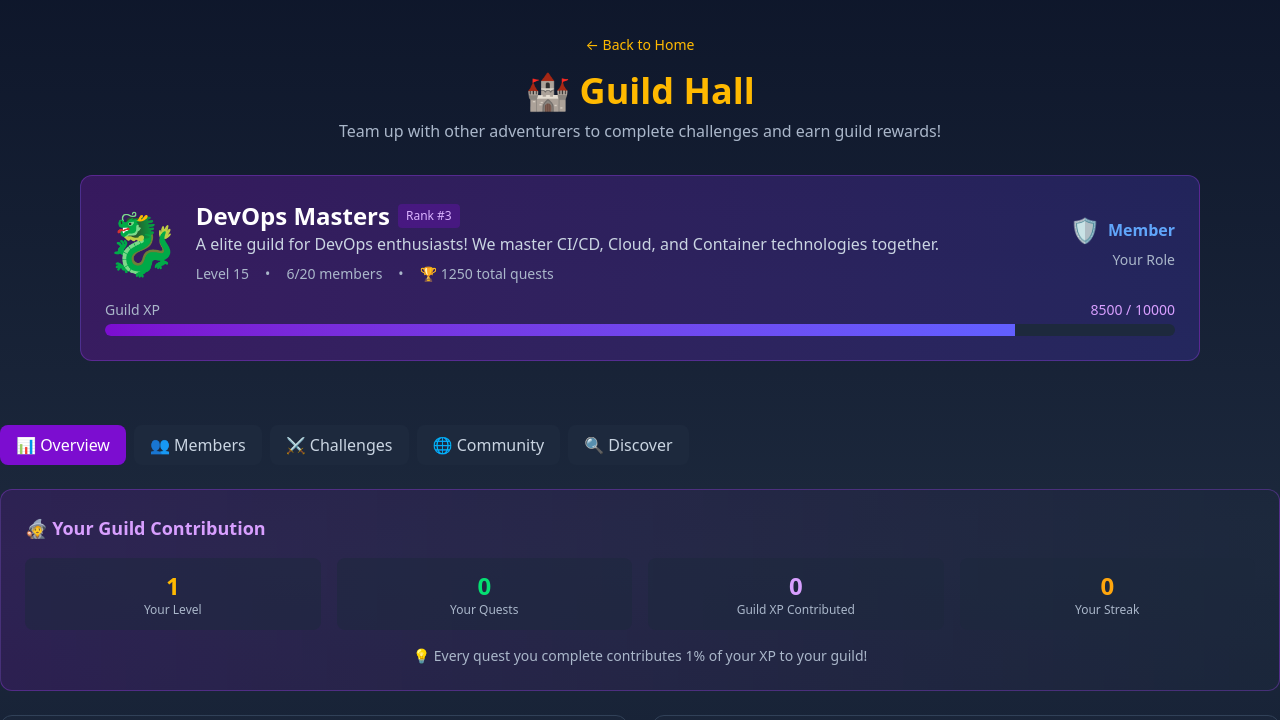
Scenario: GuildPage › shows the active guild challenges and their progress
The width and height of the screenshot is (1280, 720).
Click the button "⚔️ Challenges". click: x=339, y=445
box: [270,425,408,465]
(page scrolled)
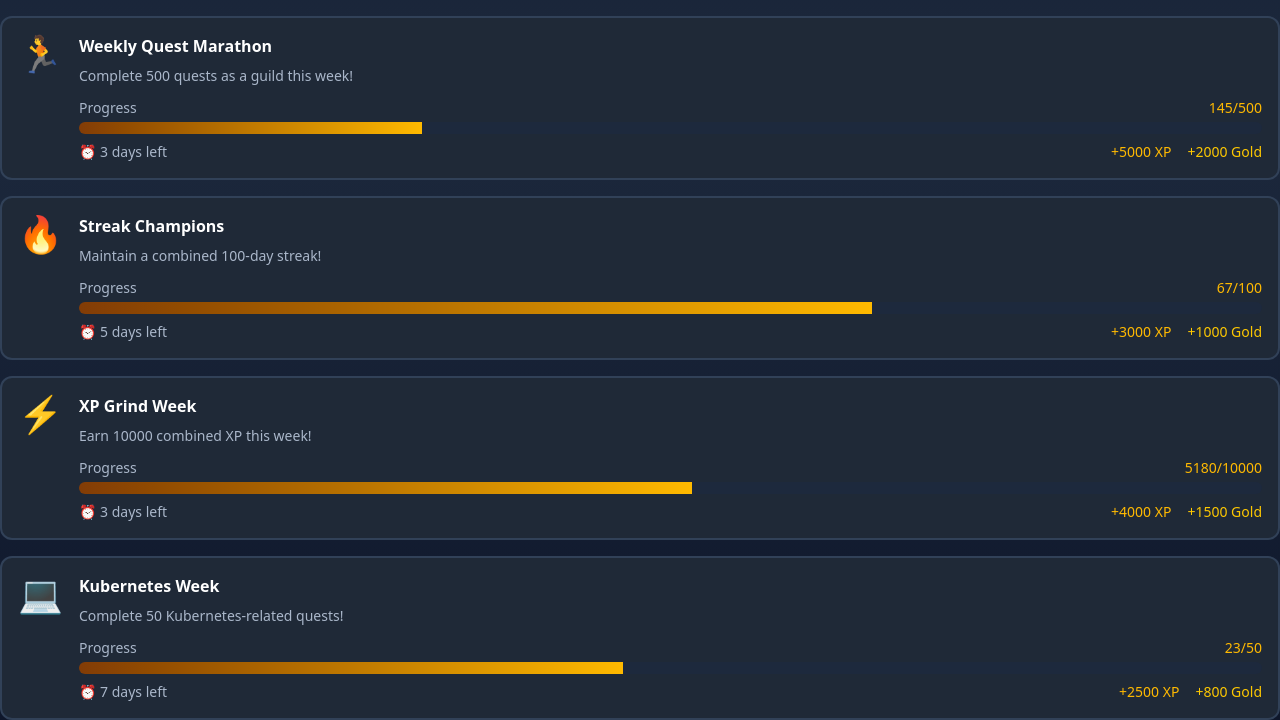
expect the heading "Weekly Quest Marathon" is shown: met, box [79,34,272,58]
expect the heading "Streak Champions" is shown: met, box [79,214,224,238]
expect the heading "XP Grind Week" is shown: met, box [79,394,196,418]
